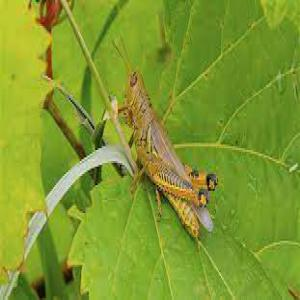locust: (108, 27, 211, 245)
